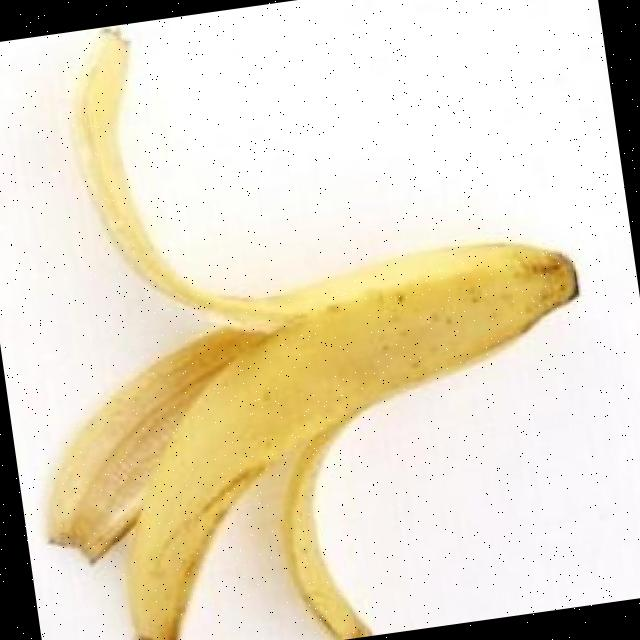banana-peel: (81, 225, 623, 640), (19, 317, 298, 569)
